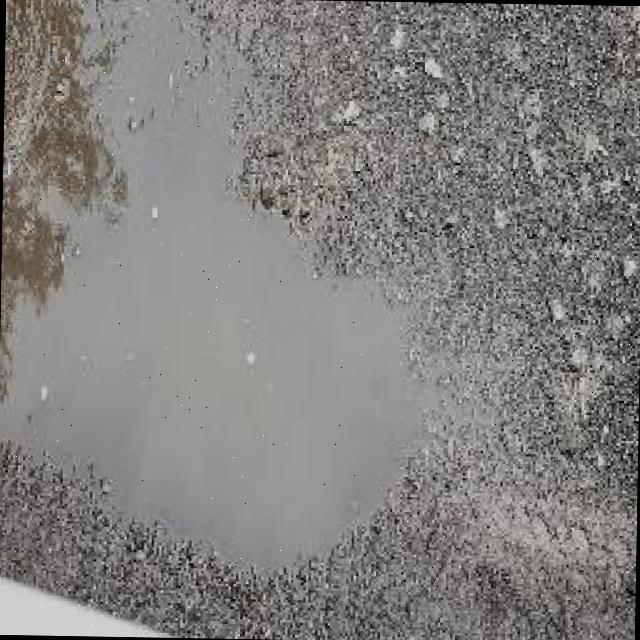waterlogging: (0, 0, 477, 586)
